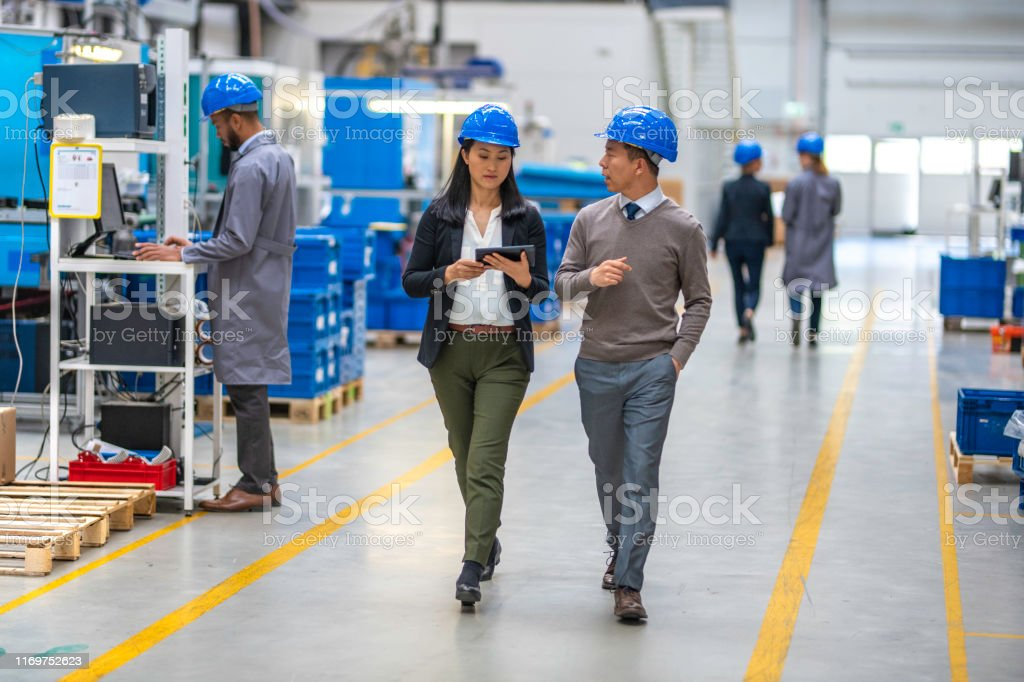person: (555, 103, 713, 621), (404, 103, 550, 605), (137, 73, 299, 508), (710, 141, 776, 344), (781, 134, 840, 349)
